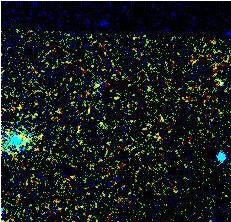star: (9, 121, 39, 151)
